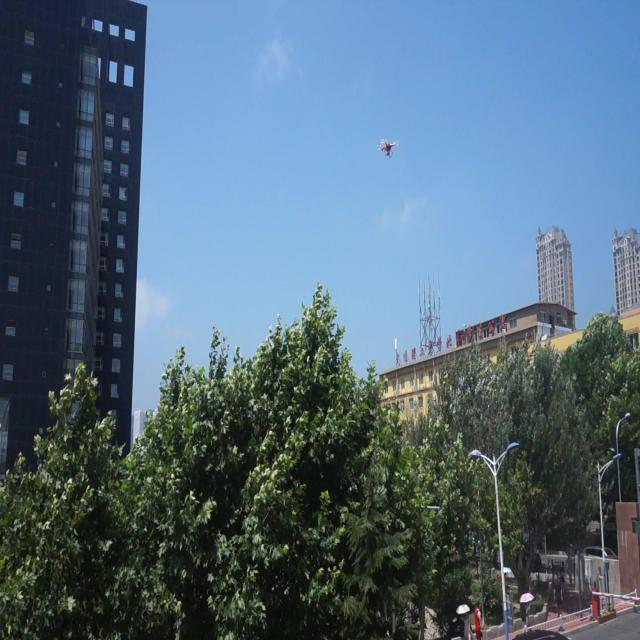drone: (376, 132, 400, 163)
